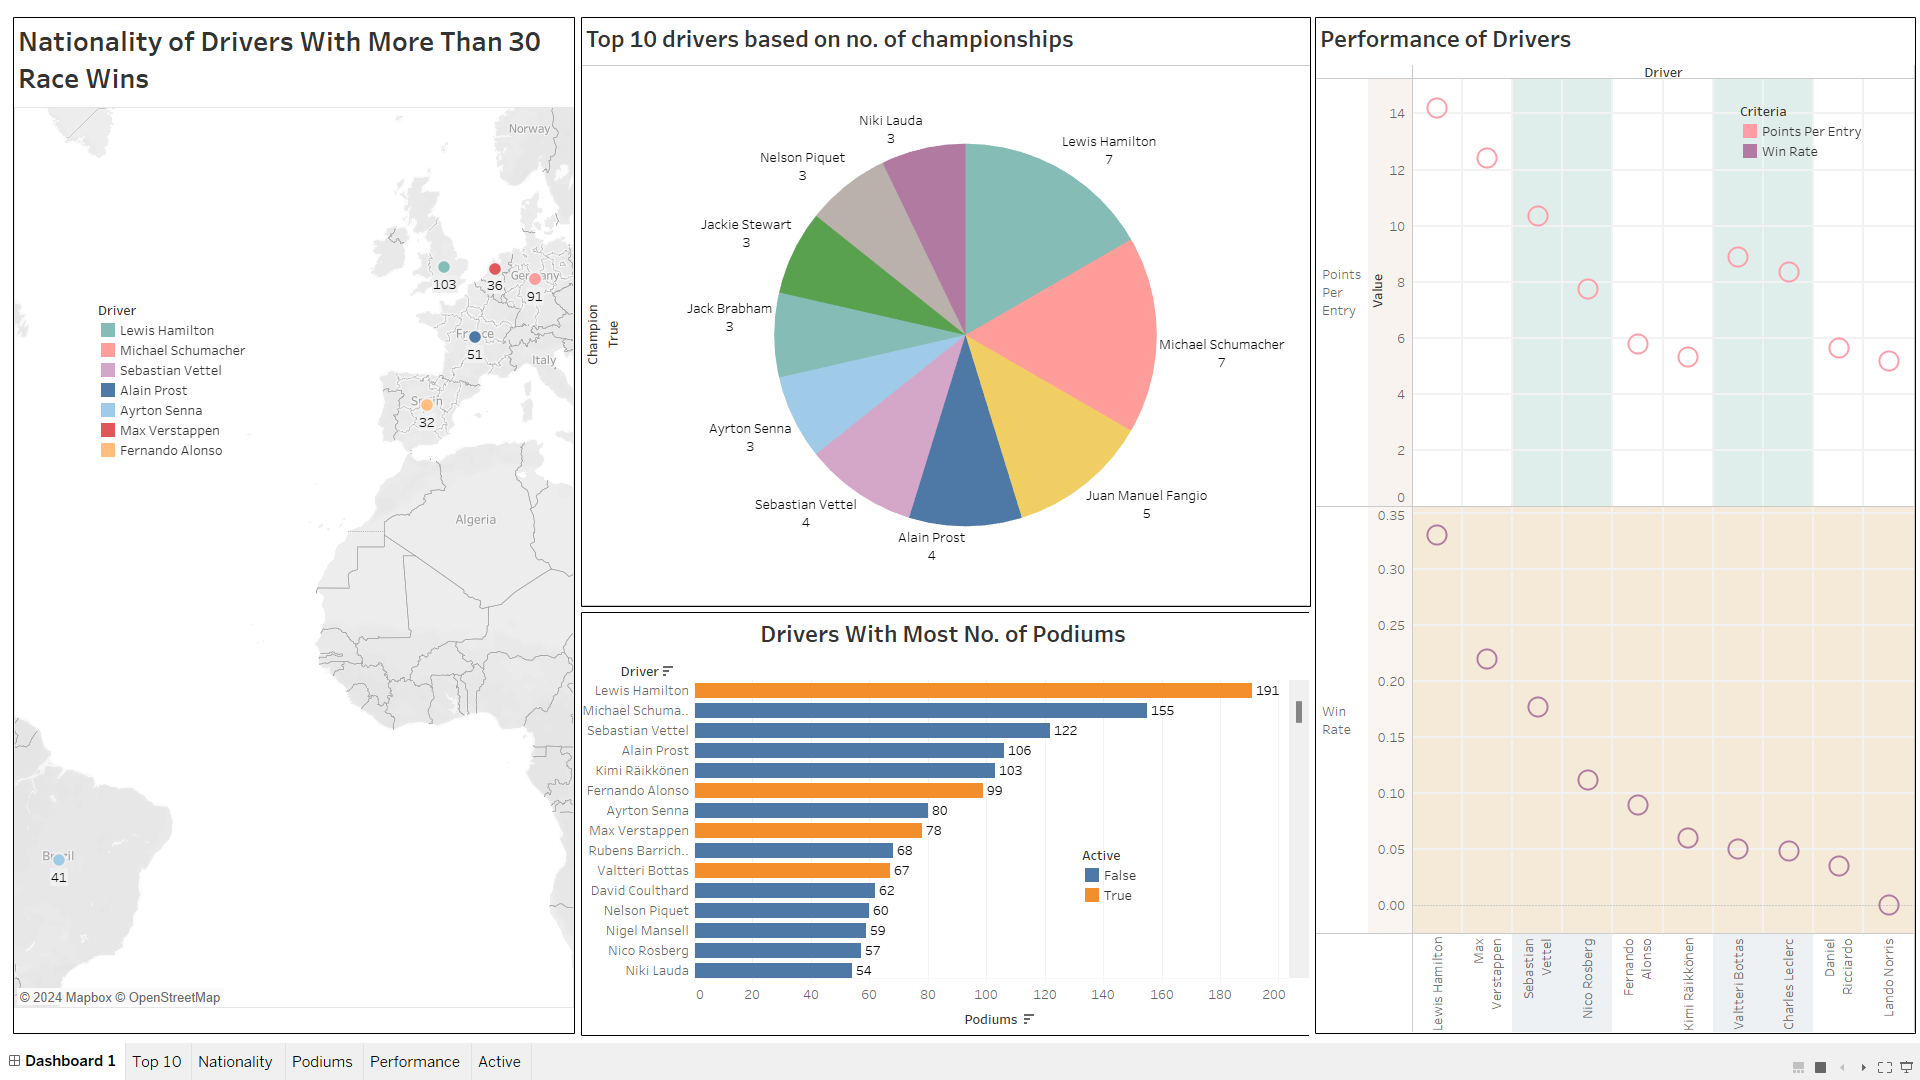

The dashboard page shown, as its layout file describes it:
{"tool":"tableau","page":{"name":"Dashboard 1","canvas":[1000,1000],"units":"permille","ordinal":0},"visuals":[{"type":"worksheet","title":"Nationality","mark":"Automatic","box":[6.6,16.4,292.7,975.3]},{"type":"worksheet","title":"Top 10","mark":"Pie","rows":["Champion"],"box":[302.4,16.4,380.2,565.2]},{"type":"worksheet","title":"Performance","mark":"Shape","cols":["Driver"],"box":[685,16.4,313.2,975.3]},{"type":"legend","title":"Performance","param":"[federated.0mbnvr01chuozm17rqs8l0zxfgvf].[:Measure Names]","box":[906.5,97.5,80.3,84.6]},{"type":"legend","title":"Nationality","param":"[federated.0mbnvr01chuozm17rqs8l0zxfgvf].[none:Driver:nk]","box":[51.2,289.1,111.3,207]},{"type":"worksheet","title":"Podiums","mark":"Automatic","rows":["Driver"],"cols":["Podiums"],"box":[302.4,586.4,379.6,406.6]},{"type":"legend","title":"Podiums","param":"[federated.0mbnvr01chuozm17rqs8l0zxfgvf].[none:Active:nk]","box":[563.7,811.2,98.1,87.2]}]}

Visuals, with their boxes on the dashboard's canvas, which has no fixed pixel size, in thousandths of its width and height (x1, y1, x2, y2). These are canvas units, not pixel positions in the 1920x1080 screenshot, which may show the page scaled, cropped or inside an application window:
"Nationality" worksheet: bbox=[7, 16, 299, 992]
"Top 10" worksheet (Pie marks): bbox=[302, 16, 683, 582]
"Performance" worksheet (Shape marks): bbox=[685, 16, 998, 992]
"Performance" legend: bbox=[906, 98, 987, 182]
"Nationality" legend: bbox=[51, 289, 162, 496]
"Podiums" worksheet: bbox=[302, 586, 682, 993]
"Podiums" legend: bbox=[564, 811, 662, 898]
